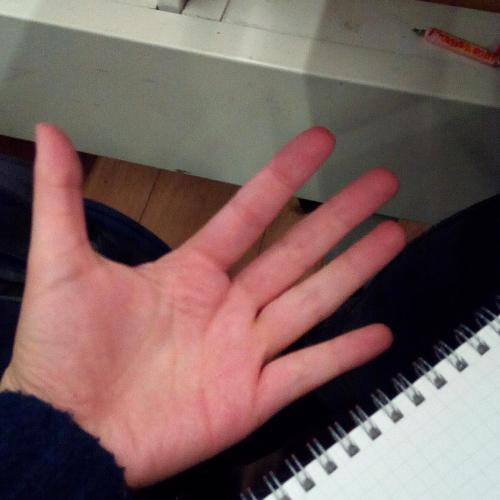paper: (9, 109, 420, 496)
